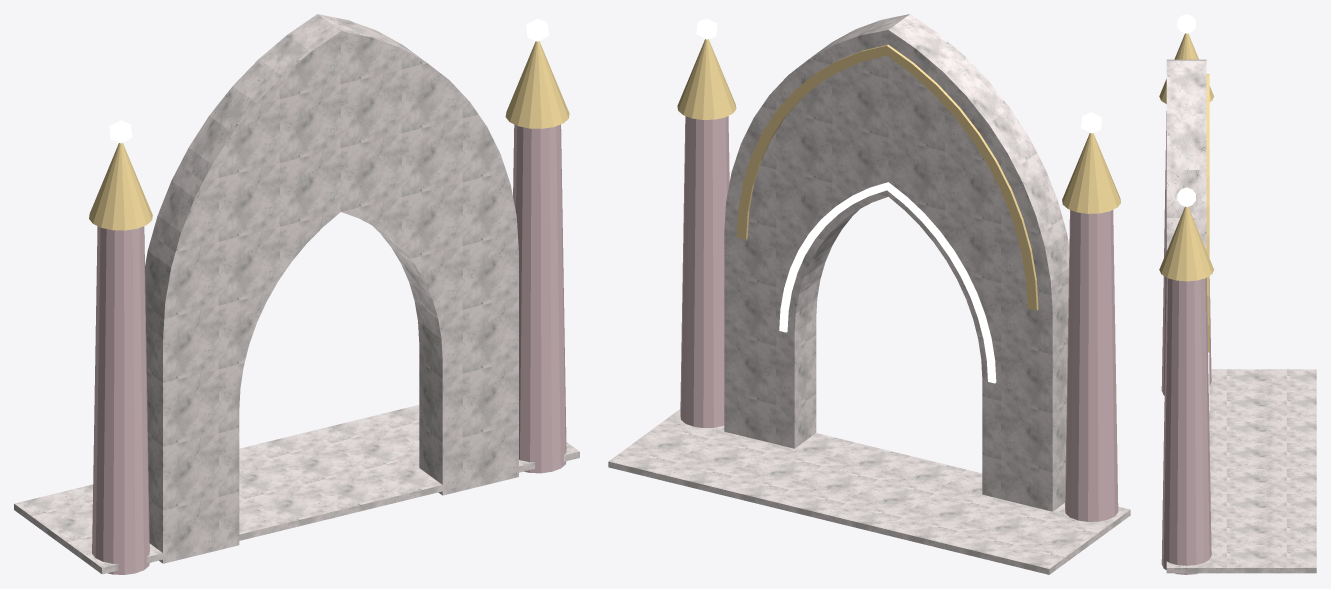
File: GatePortalNorth.glb
3 renders of one model, left to right at view 1: azimuth 30°, elevation 25°; view 2: azimuth 150°, elevation 25°; view 3: azimuth 270°, elevation 25°, orthographic. The views are drawn at different scales.
Visible parts, largest first — view 1: GatePortalNorth-marble, GatePortalNorth-rose, GatePortalNorth-gold, GatePortalNorth-glow; view 2: GatePortalNorth-marble, GatePortalNorth-rose, GatePortalNorth-gold, GatePortalNorth-glow; view 3: GatePortalNorth-marble, GatePortalNorth-rose, GatePortalNorth-gold, GatePortalNorth-glow.
Boxes of the visible parts, x1,y1,x2,y2 form: GatePortalNorth-marble: (14, 14, 579, 574); GatePortalNorth-rose: (92, 124, 566, 574); GatePortalNorth-gold: (89, 41, 569, 230); GatePortalNorth-glow: (109, 18, 548, 143); GatePortalNorth-marble: (608, 14, 1130, 574); GatePortalNorth-rose: (680, 116, 1118, 521); GatePortalNorth-gold: (677, 39, 1120, 310); GatePortalNorth-glow: (696, 18, 1101, 383); GatePortalNorth-marble: (1166, 59, 1316, 573); GatePortalNorth-rose: (1161, 111, 1211, 574); GatePortalNorth-gold: (1159, 33, 1213, 352); GatePortalNorth-glow: (1177, 14, 1209, 410).
Size of the model in its own units: 94 by 92 by 31.5.
4 materials, 1 textured.
